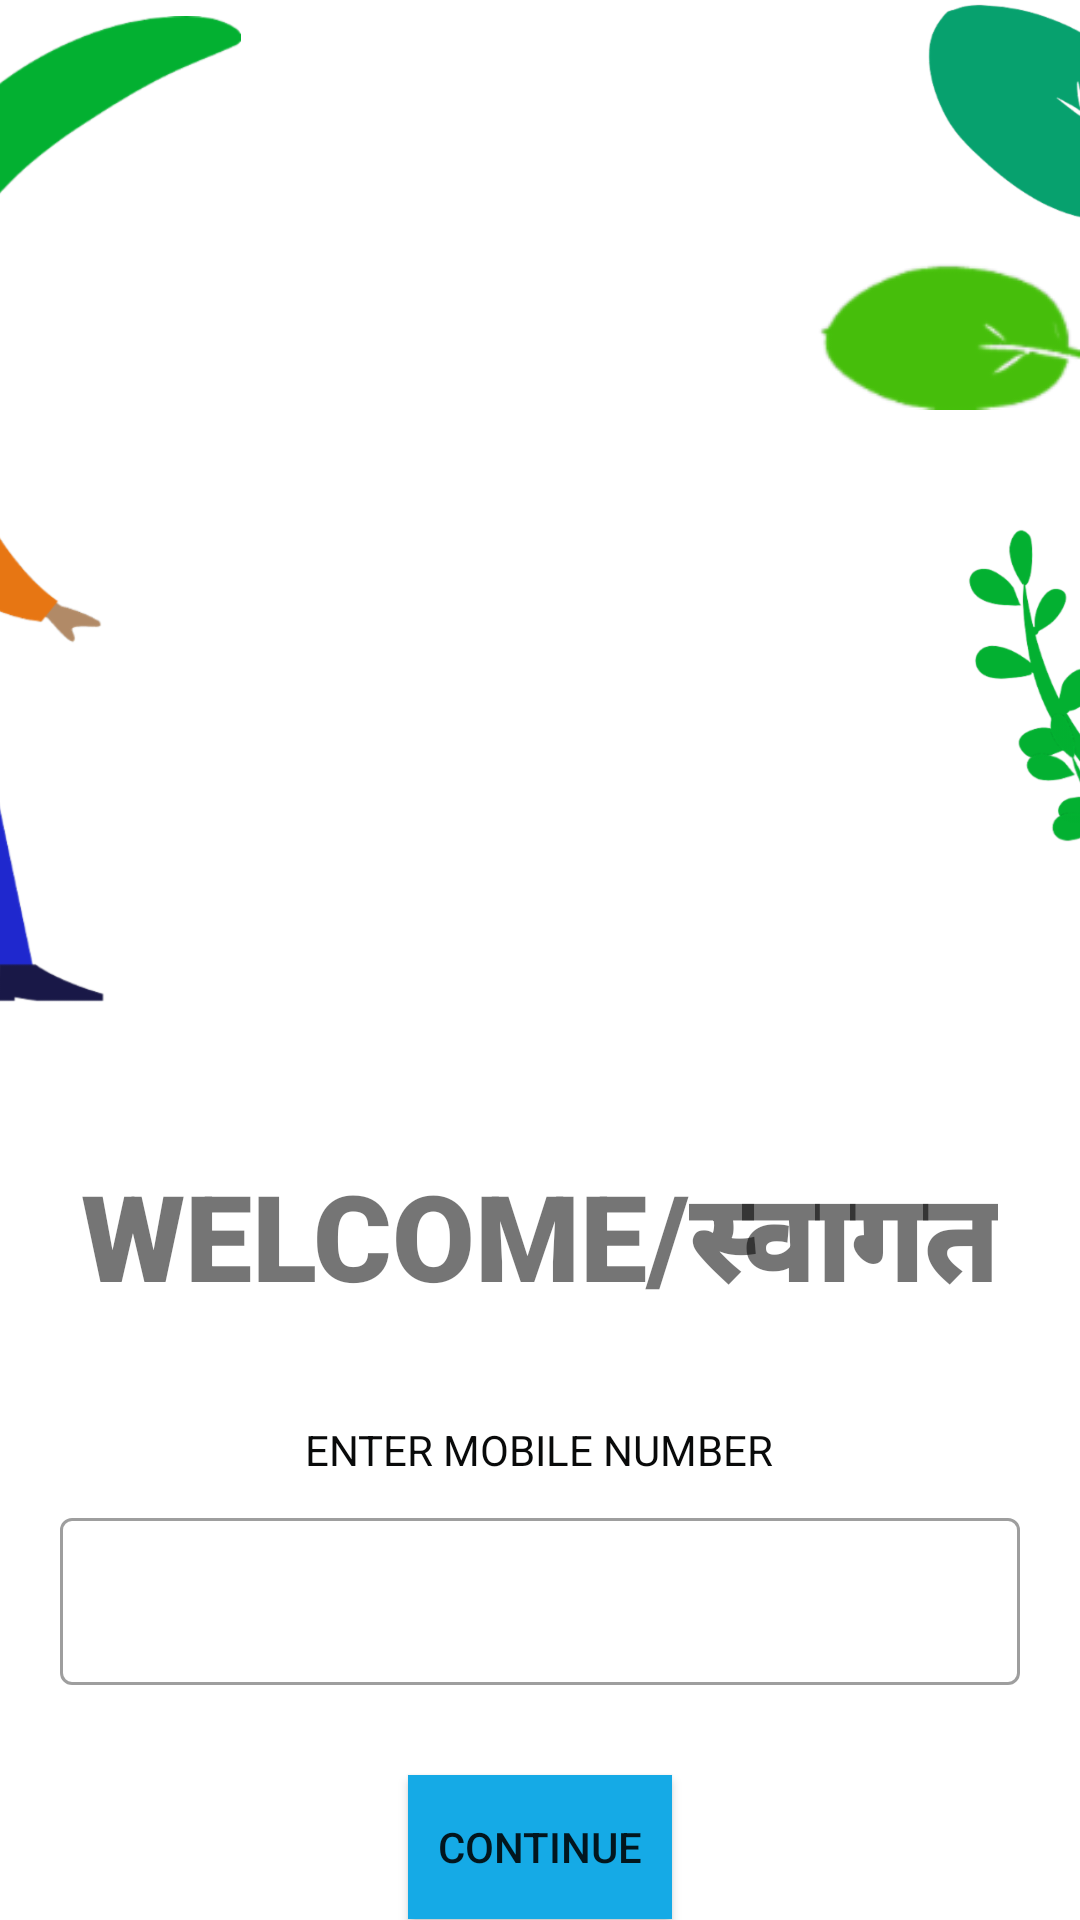

Named icons in this screenshot (1080px x 1920px) and their bounding boxes, [x1=x1, y1=y1, x2=x2, y2=y2]:
leave the leaf: [x1=821, y1=265, x2=1080, y2=410]
